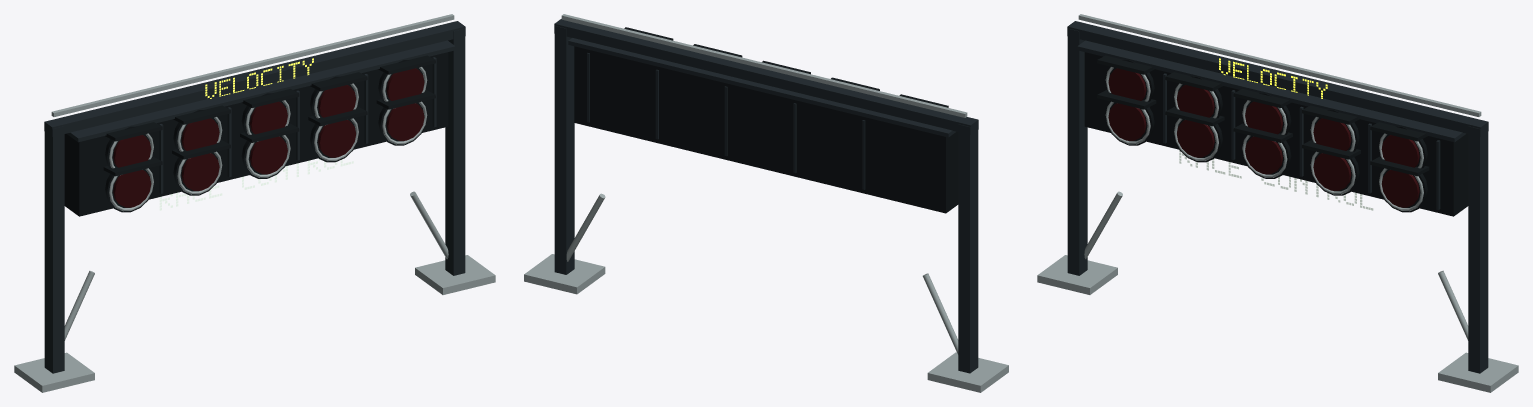
Rendered from race-start-lights-lod1.glb.
The picture shows the model from 3 angles, left to right: view 1: azimuth 30°, elevation 25°; view 2: azimuth 150°, elevation 25°; view 3: azimuth 330°, elevation 25°; orthographic projection.
Visible parts, largest first — view 1: housing__Moulded_carbon_housing, frame__Powder-coated_graphite_frame, frame__Brushed_aluminium, housing__Powder-coated_graphite_frame, hardware__Brushed_aluminium, StartLight_05_Top, StartLight_03_Top, StartLight_01_Top, StartLight_02_Top, StartLight_04_Top, StartLight_02_Bottom, StartLight_05_Bottom (+5 smaller); view 2: housing__Moulded_carbon_housing, frame__Powder-coated_graphite_frame, frame__Brushed_aluminium, housing__Powder-coated_graphite_frame; view 3: housing__Moulded_carbon_housing, frame__Powder-coated_graphite_frame, frame__Brushed_aluminium, housing__Powder-coated_graphite_frame, hardware__Brushed_aluminium, StartLight_01_Top, StartLight_03_Top, StartLight_04_Top, StartLight_05_Top, StartLight_02_Top, StartLight_04_Bottom, StartLight_01_Bottom (+5 smaller).
Part boxes in pixels (bbox=[...]): housing__Moulded_carbon_housing: bbox=[64, 52, 448, 216]; frame__Powder-coated_graphite_frame: bbox=[44, 21, 465, 373]; frame__Brushed_aluminium: bbox=[14, 14, 495, 392]; housing__Powder-coated_graphite_frame: bbox=[67, 40, 455, 193]; hardware__Brushed_aluminium: bbox=[109, 67, 427, 211]; StartLight_05_Top: bbox=[386, 103, 424, 140]; StartLight_03_Top: bbox=[250, 136, 287, 174]; StartLight_01_Top: bbox=[113, 170, 151, 207]; StartLight_02_Top: bbox=[181, 153, 219, 190]; StartLight_04_Top: bbox=[318, 120, 355, 157]; StartLight_02_Bottom: bbox=[181, 118, 219, 155]; StartLight_05_Bottom: bbox=[386, 68, 424, 100]; housing__Moulded_carbon_housing: bbox=[574, 27, 958, 213]; frame__Powder-coated_graphite_frame: bbox=[554, 19, 978, 373]; frame__Brushed_aluminium: bbox=[524, 14, 1008, 392]; housing__Powder-coated_graphite_frame: bbox=[568, 38, 955, 189]; housing__Moulded_carbon_housing: bbox=[1084, 52, 1468, 216]; frame__Powder-coated_graphite_frame: bbox=[1067, 21, 1488, 373]; frame__Brushed_aluminium: bbox=[1037, 14, 1518, 392]; housing__Powder-coated_graphite_frame: bbox=[1077, 40, 1465, 209]; hardware__Brushed_aluminium: bbox=[1105, 67, 1423, 211]; StartLight_01_Top: bbox=[1108, 103, 1146, 140]; StartLight_03_Top: bbox=[1245, 136, 1282, 174]; StartLight_04_Top: bbox=[1313, 153, 1351, 190]; StartLight_05_Top: bbox=[1381, 170, 1419, 207]; StartLight_02_Top: bbox=[1177, 120, 1214, 157]; StartLight_04_Bottom: bbox=[1313, 118, 1351, 155]; StartLight_01_Bottom: bbox=[1108, 68, 1146, 100].
Size of the model in its own units: 10.75 by 5.97 by 1.43.
